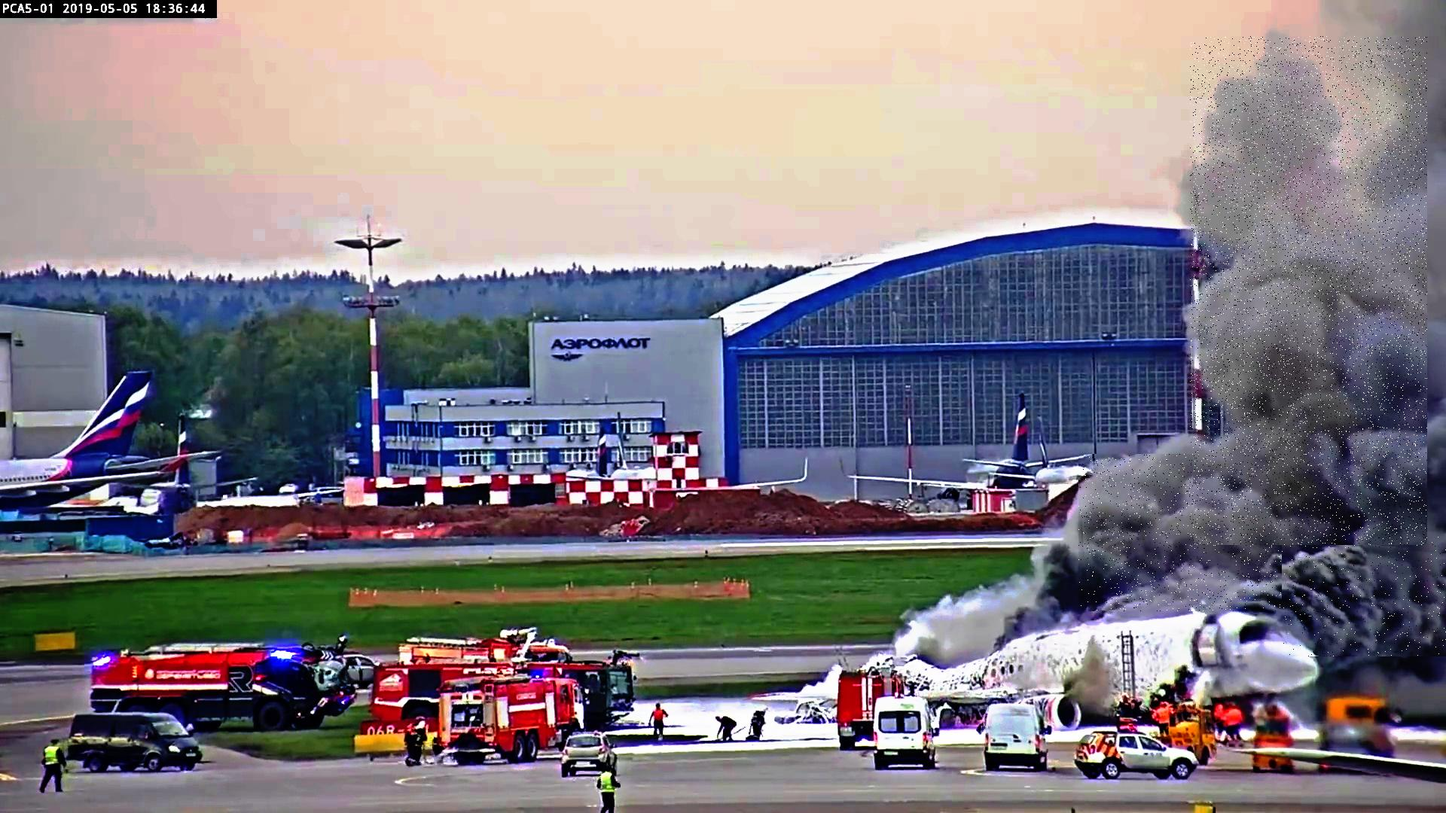smoke: (1190, 36, 1427, 545), (1079, 454, 1284, 611), (1283, 537, 1446, 657)
